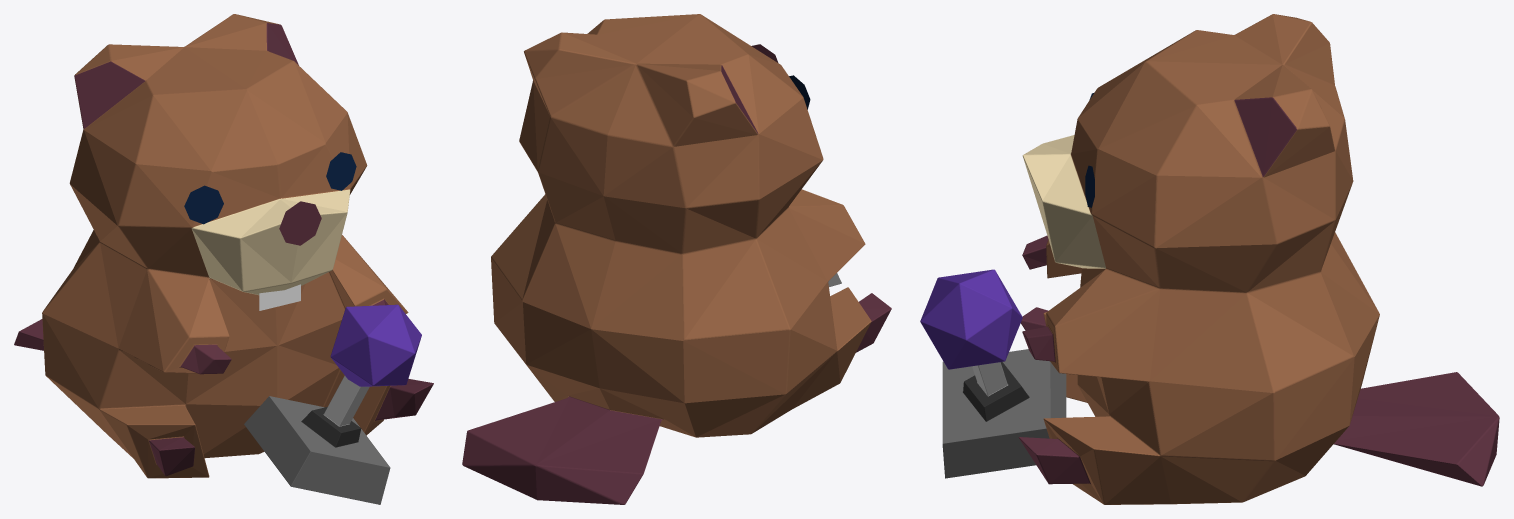
The model's file is gim.glb.
3 renders of one model, left to right at view 1: azimuth 30°, elevation 25°; view 2: azimuth 150°, elevation 25°; view 3: azimuth 270°, elevation 25°, orthographic. The views are drawn at different scales.
Visible parts, largest first — view 1: beaver, base, joystick, nose, eye.r, eye.l, tooth; view 2: beaver; view 3: beaver, base, joystick.
Part boxes in pixels (box(x1,y1,x2,y2)): beaver: box(14, 14, 433, 478); base: box(244, 375, 390, 504); joystick: box(330, 304, 421, 386); nose: box(279, 201, 321, 245); eye.r: box(184, 185, 223, 224); eye.l: box(326, 152, 356, 190); tooth: box(259, 284, 300, 310); beaver: box(462, 14, 891, 504); beaver: box(1018, 14, 1499, 504); base: box(942, 349, 1066, 478); joystick: box(920, 269, 1022, 369).
Bounding box in the file's own units: 3.34 × 3.97 × 5.21.
